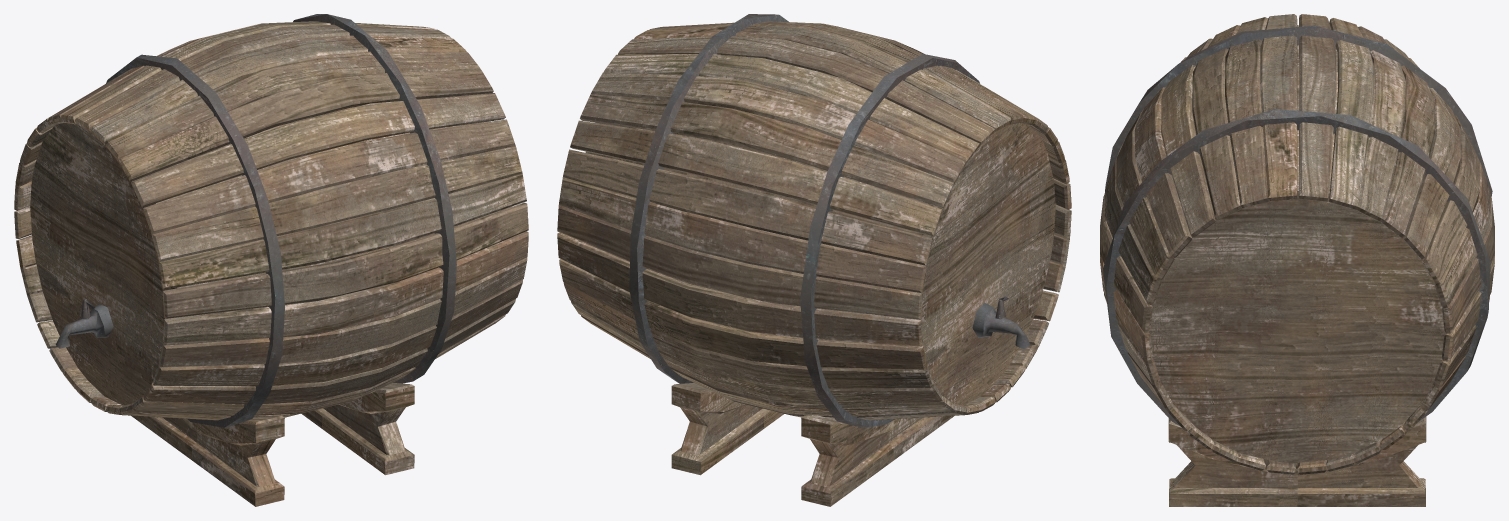
Rendered from SM_Large_Keg.fbx.
3 views of the same model, side by side, from view 1: azimuth 30°, elevation 25°; view 2: azimuth 150°, elevation 25°; view 3: azimuth 270°, elevation 25° (orthographic).
Visible parts, largest first — view 1: SM_Large_Keg_LOD0; view 2: SM_Large_Keg_LOD0; view 3: SM_Large_Keg_LOD0.
Boxes of the visible parts, x1,y1,x2,y2 form: SM_Large_Keg_LOD0: (14, 14, 528, 506); SM_Large_Keg_LOD0: (557, 14, 1071, 506); SM_Large_Keg_LOD0: (1100, 14, 1494, 506).
Bounding box in the file's own units: 133 × 113 × 127.
